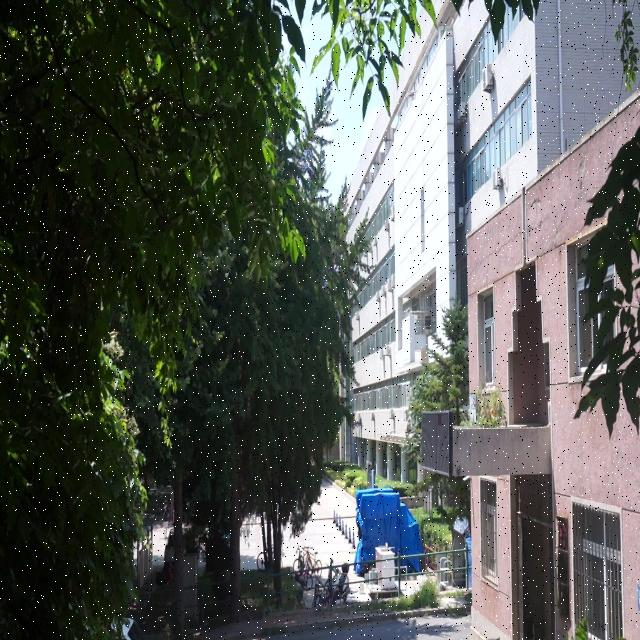UAV: (405, 90, 418, 100)
